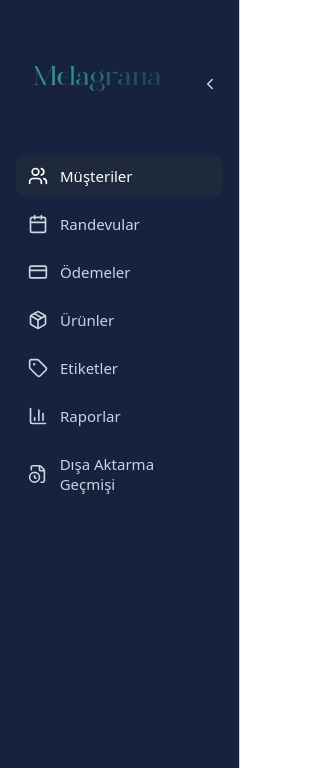
Sidebar › toggles collapsed class and hides labels when collapse button clicked
The width and height of the screenshot is (320, 768).
Check: the text "Müşteriler" is shown, box [60, 166, 132, 186]
Click the button with class "collapse-btn": (210, 86) [197, 71, 223, 101]
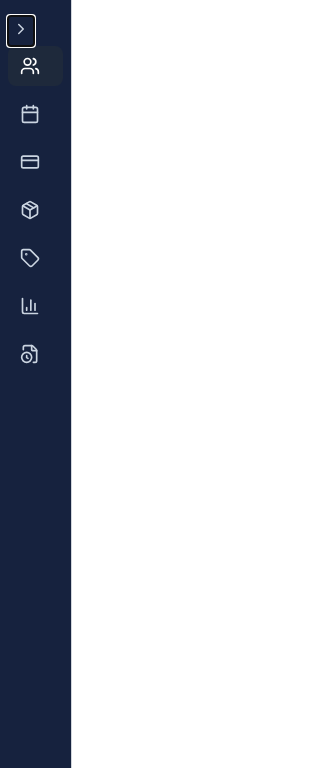
Check: the text "Müşteriler" is gone
